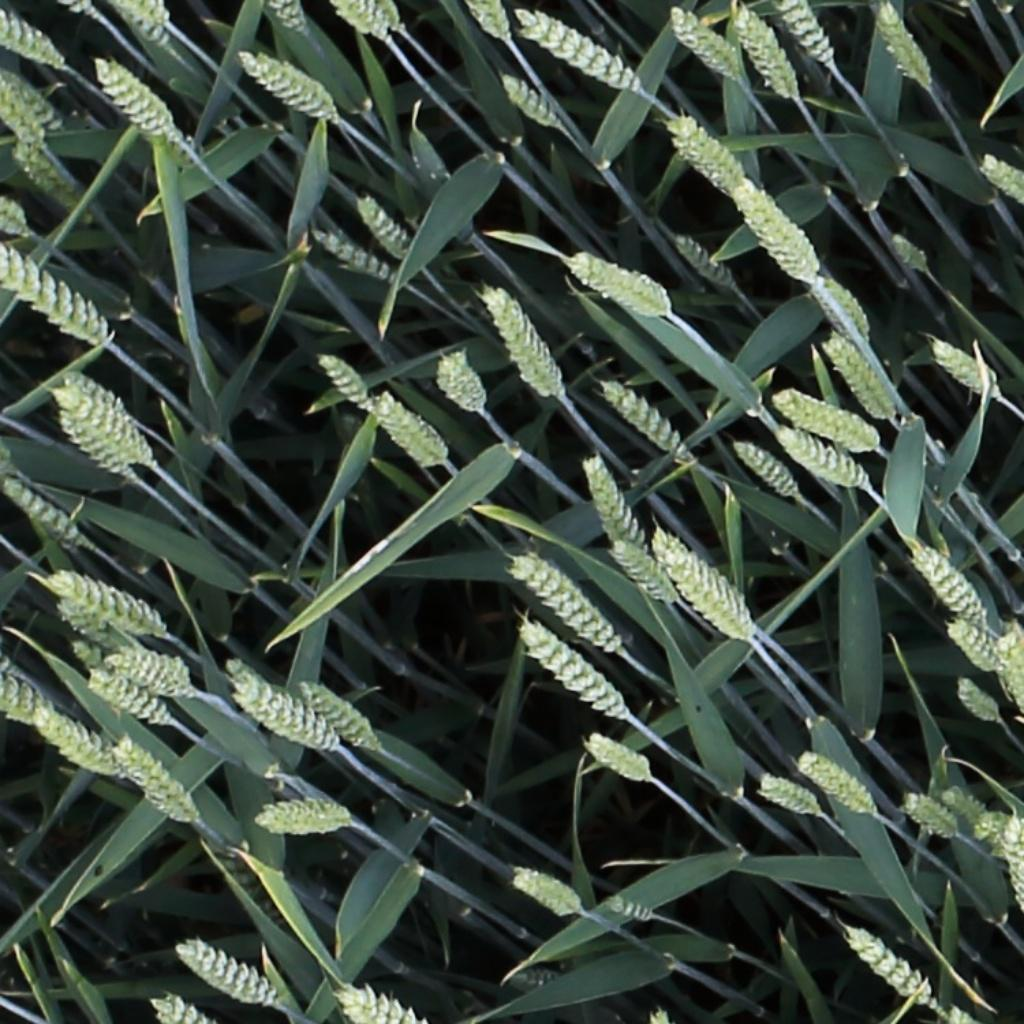0-0: (506, 551, 621, 656), (517, 622, 629, 722), (653, 531, 749, 643), (223, 659, 333, 752), (477, 278, 559, 400), (516, 9, 637, 91), (731, 177, 820, 283), (1, 255, 105, 344), (596, 376, 692, 464), (87, 55, 182, 141), (55, 387, 153, 467), (843, 925, 935, 1008), (237, 51, 341, 124), (577, 450, 648, 555), (820, 330, 898, 424), (768, 390, 882, 454), (907, 540, 988, 630), (43, 573, 162, 634), (173, 937, 275, 1008), (110, 741, 195, 826), (8, 137, 93, 220), (729, 4, 800, 103), (666, 114, 749, 196), (32, 706, 121, 780), (2, 475, 88, 551), (54, 405, 137, 478), (871, 1, 935, 94), (296, 681, 378, 753), (976, 809, 1024, 932), (775, 427, 868, 490), (563, 253, 667, 309), (664, 6, 741, 80), (368, 393, 445, 466), (256, 54, 340, 118), (795, 753, 876, 819), (66, 376, 141, 445), (607, 537, 679, 607), (83, 669, 169, 726), (772, 0, 839, 68), (928, 337, 1000, 400), (1, 62, 64, 133), (349, 188, 410, 260), (730, 438, 800, 499), (102, 652, 192, 698), (51, 596, 117, 658), (670, 229, 737, 290), (330, 984, 432, 1024), (812, 273, 872, 341), (311, 228, 389, 279), (579, 728, 651, 783), (250, 796, 349, 836), (0, 8, 64, 68), (0, 72, 51, 146), (508, 864, 580, 916), (434, 345, 486, 417), (496, 69, 559, 126), (1, 658, 52, 728), (944, 617, 1003, 677), (992, 621, 1024, 726), (751, 773, 820, 817), (899, 789, 958, 839), (978, 152, 1024, 208), (321, 356, 369, 409), (114, 1, 169, 47), (884, 228, 931, 273), (468, 0, 512, 47), (331, 1, 385, 38), (954, 679, 993, 727), (948, 787, 990, 831), (266, 0, 308, 39), (148, 995, 200, 1024), (368, 1, 406, 35), (132, 1, 169, 31), (75, 641, 108, 668)
